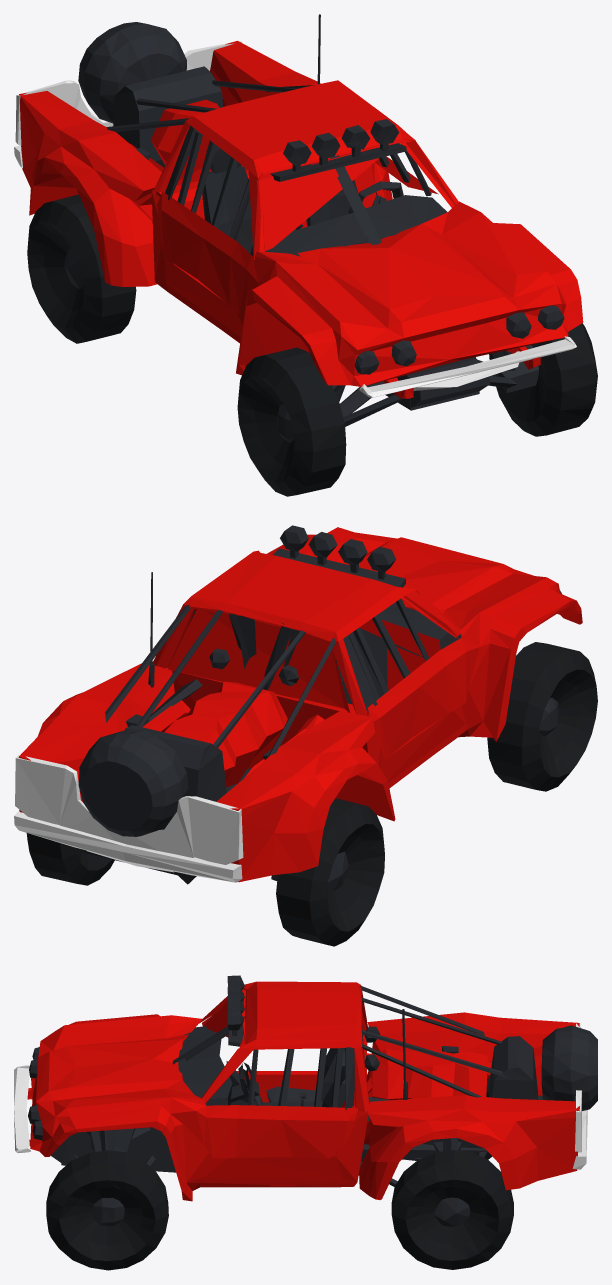
File: baja.glb
The picture shows the model from 3 angles, top to bottom: view 1: azimuth 30°, elevation 25°; view 2: azimuth 150°, elevation 25°; view 3: azimuth 270°, elevation 25°; orthographic projection. The views are drawn at different scales.
Parts seen in each view (by area): view 1: primary, dark, wheel_0, wheel_3, wheel_2, secondary; view 2: primary, dark, secondary, wheel_0, wheel_3, wheel_1; view 3: primary, dark, wheel_2, wheel_1, secondary.
Part boxes in pixels (<box>): primary: <box>19,40,583,398</box>; dark: <box>64,14,564,442</box>; wheel_0: <box>237,347,346,496</box>; wheel_3: <box>27,194,136,343</box>; wheel_2: <box>489,323,597,436</box>; secondary: <box>14,41,576,397</box>; primary: <box>18,527,582,882</box>; dark: <box>70,525,561,891</box>; secondary: <box>14,754,243,882</box>; wheel_0: <box>487,642,597,791</box>; wheel_3: <box>276,798,384,946</box>; wheel_1: <box>26,833,114,885</box>; primary: <box>27,981,579,1201</box>; dark: <box>28,975,597,1226</box>; wheel_2: <box>46,1150,168,1270</box>; wheel_1: <box>391,1150,513,1269</box>; secondary: <box>14,1023,587,1169</box>.
Bounding box in the file's own units: 2.55 × 2.34 × 5.2.
